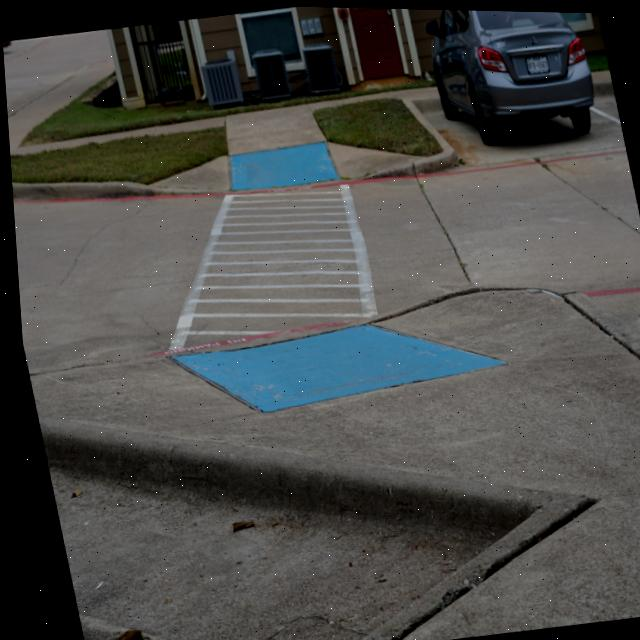Automobile: (432, 8, 593, 143)
Obstacle: (34, 428, 515, 640)
Road: (10, 146, 640, 371), (2, 29, 109, 115)
Sidewalk: (27, 283, 640, 640), (6, 69, 435, 189)
